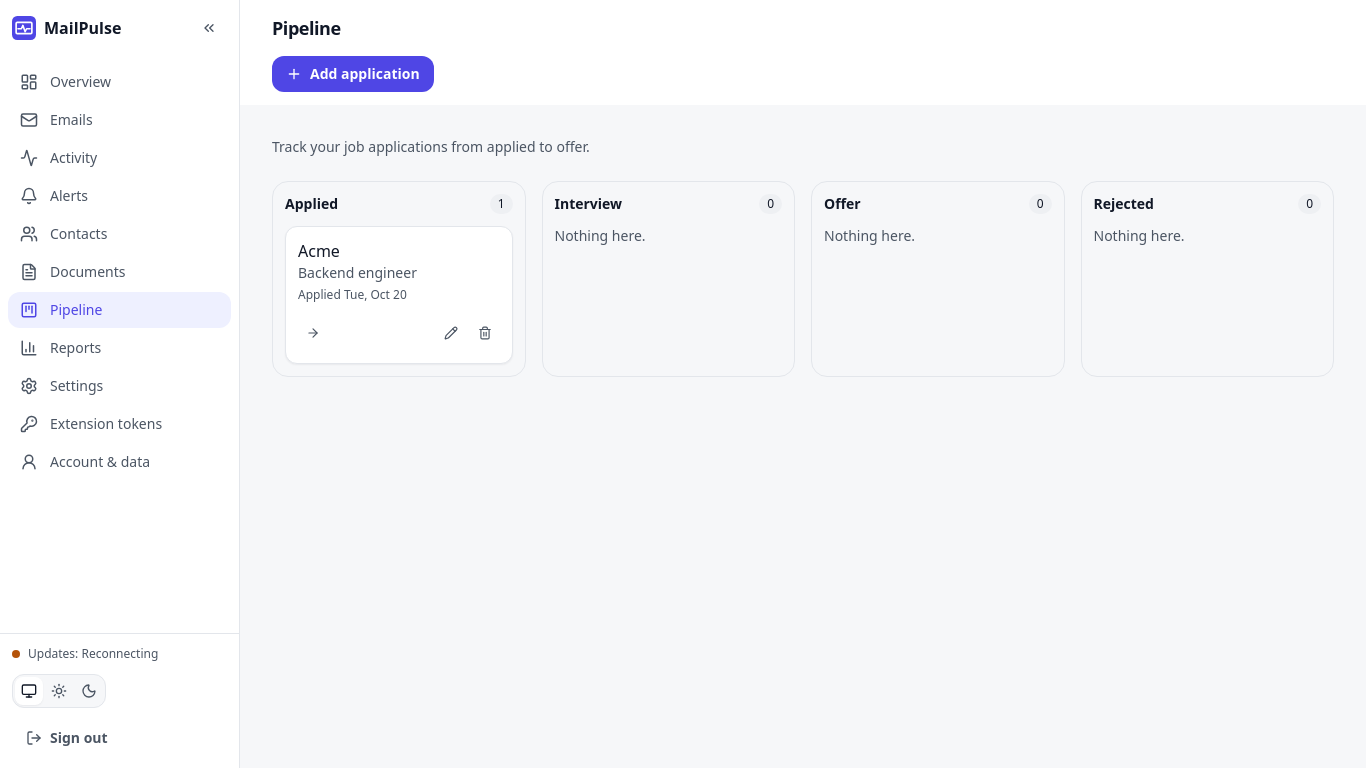
Scenario: PipelinePage › deletes an application after confirming
Click the button named "Delete Acme": (484, 333) [470, 315, 500, 351]
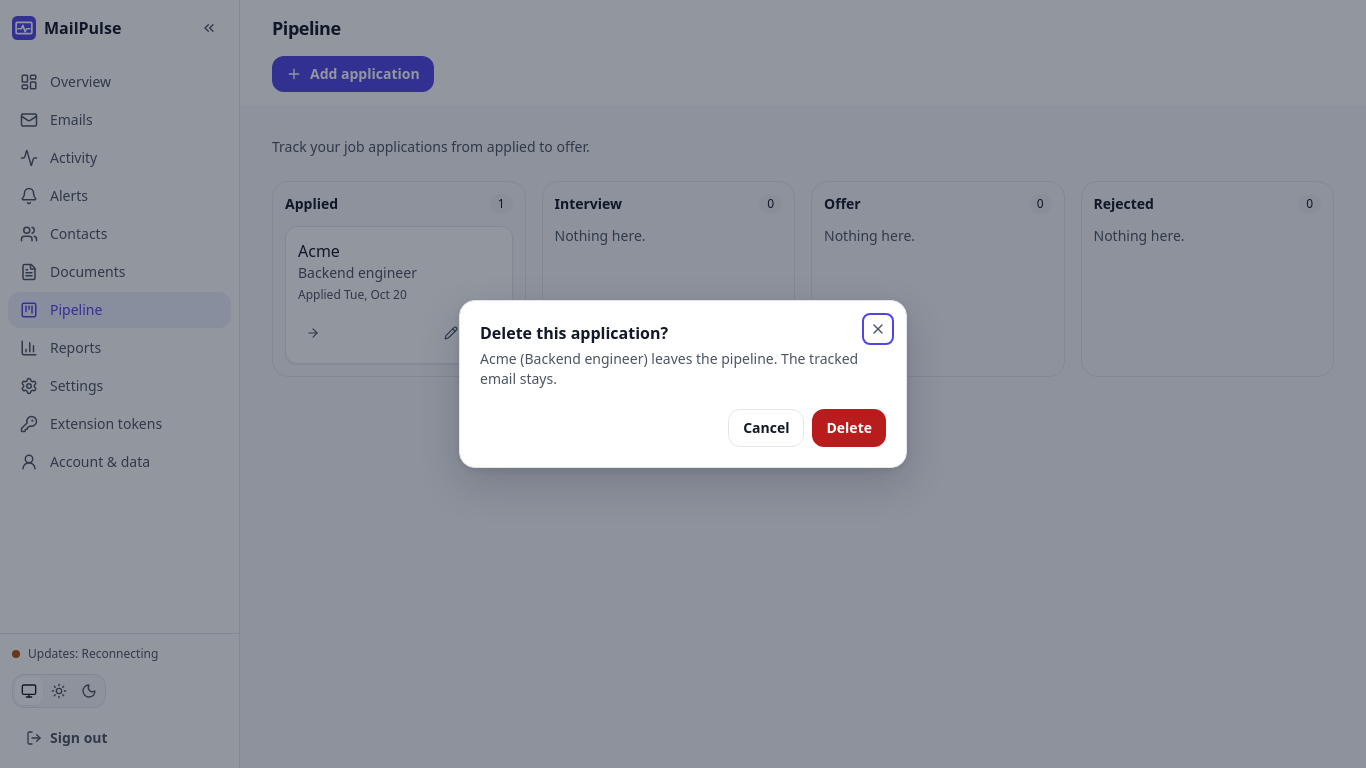
Click the button "Delete": (849, 428) [812, 409, 886, 447]
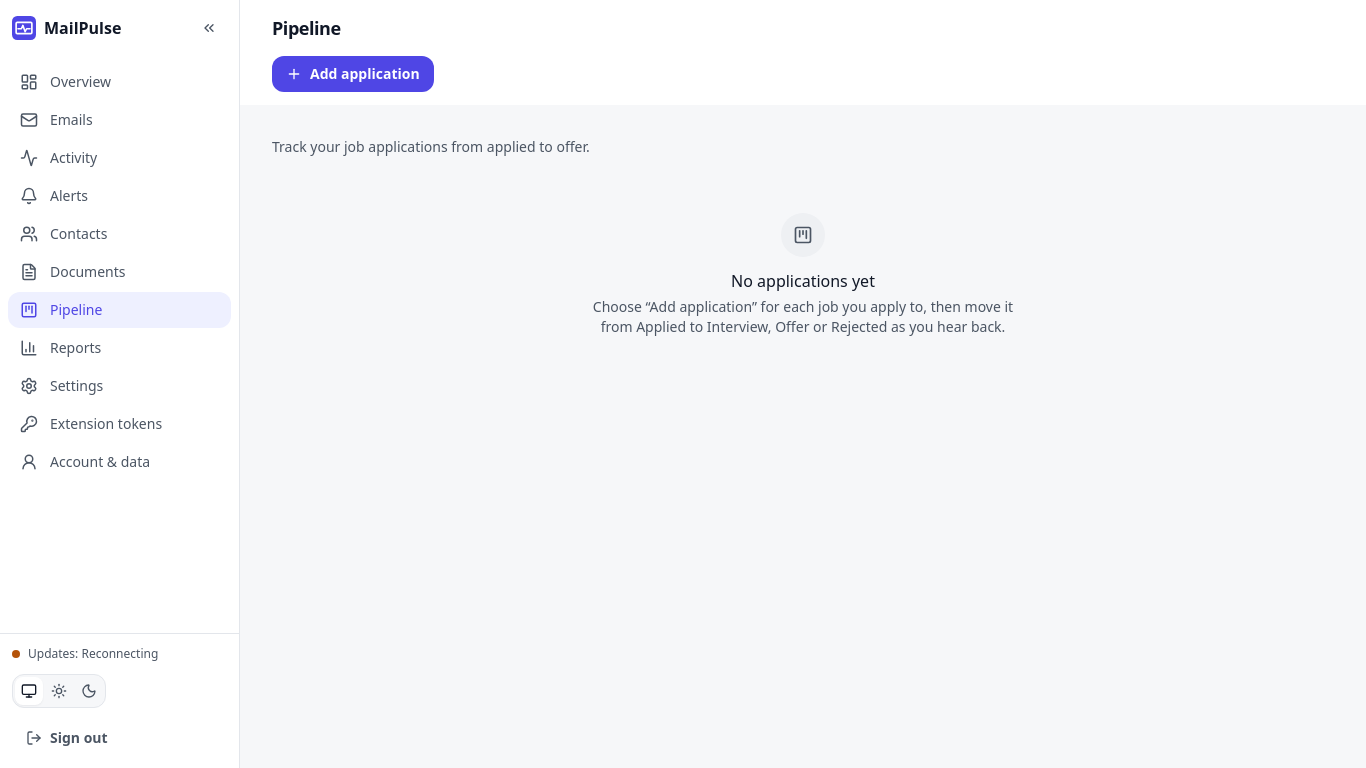
Expected: the text "No applications yet" is shown, [731, 269, 875, 293]
